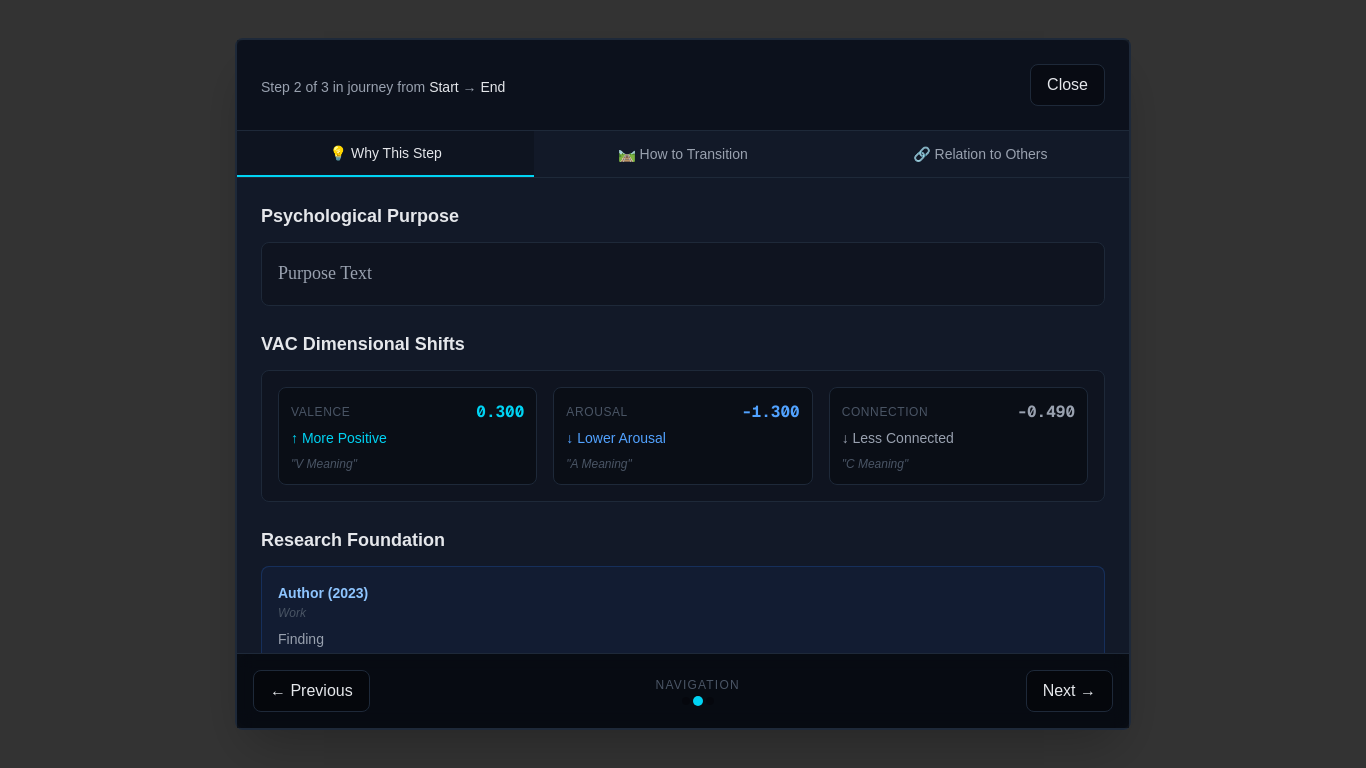
it: WaypointDetailModal › Strategy Fetching & Rich Metadata › handles strategy fetch error and retry
// Switch to How tab to trigger fetch
Click the tab "🛤️ How to Transition".
click(683, 154)  # box [534,131,832,177]
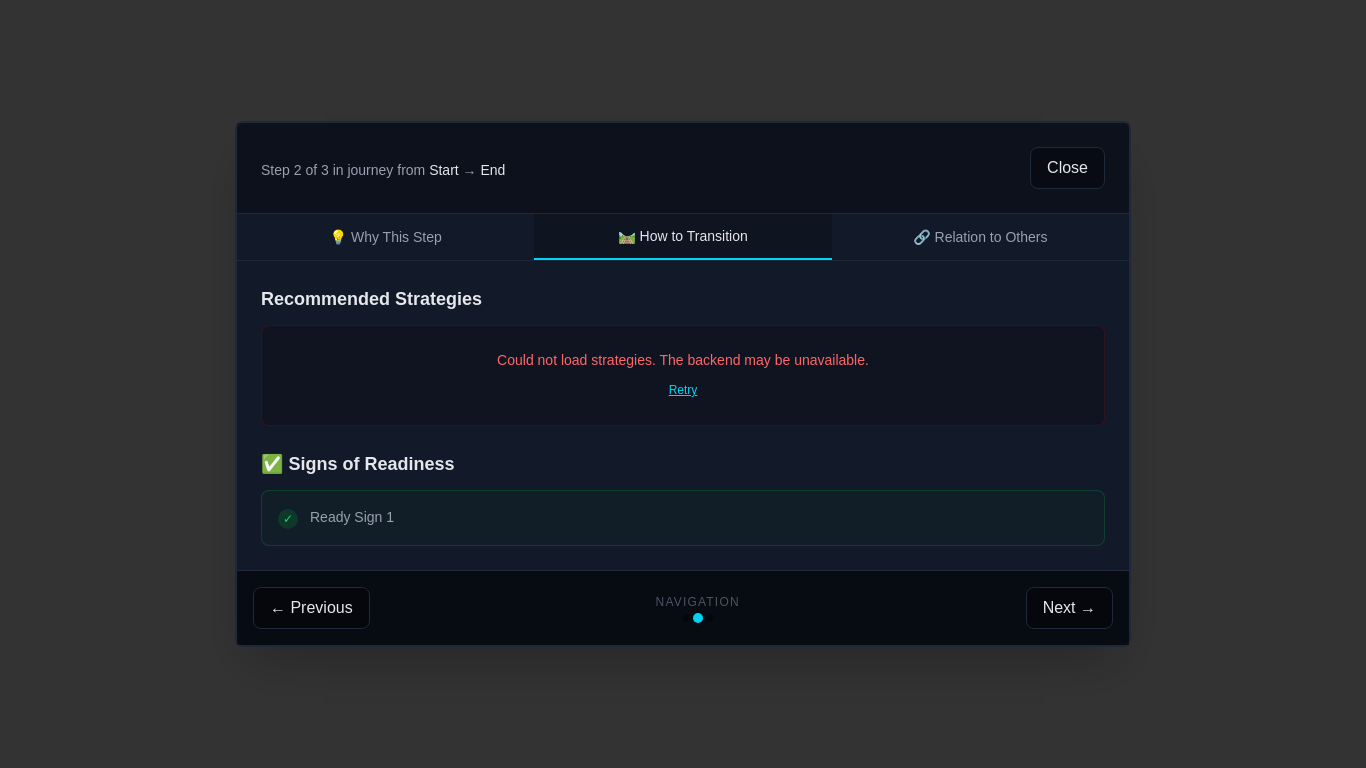
Result: the text "Could not load strategies. The backend may be unavailable." is shown at [497,352,869,368]
// Click Retry
Click the button "Retry".
click(683, 390)  # box [669,382,697,398]
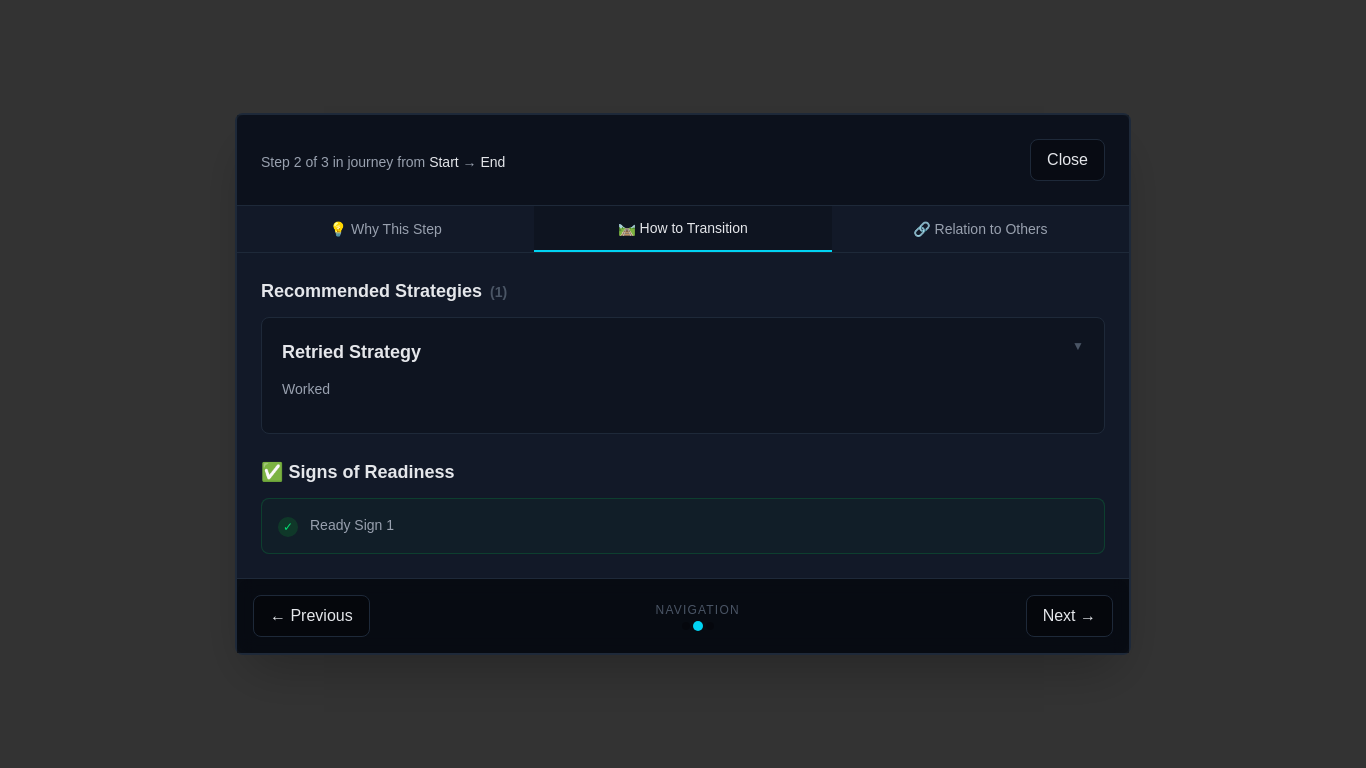
Result: the heading "Retried Strategy" is shown at [282,338,421,366]
